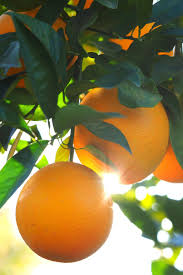orange: (67, 76, 173, 184), (13, 153, 113, 266)
